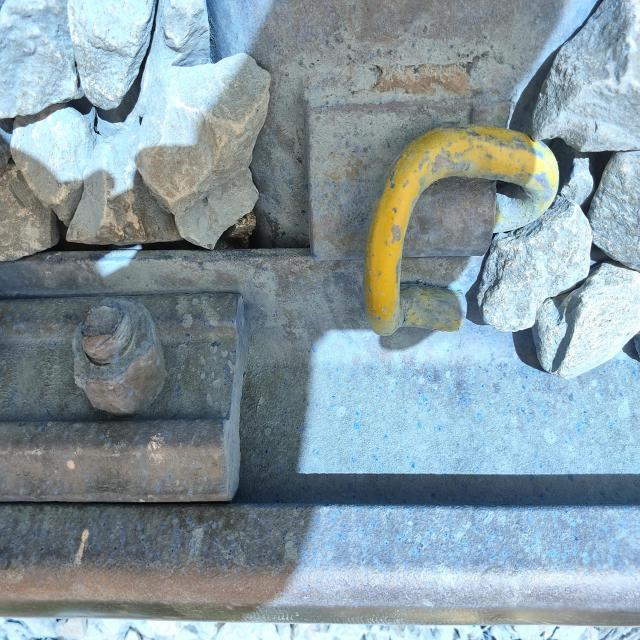Good Fasteners: (306, 88, 558, 334)
